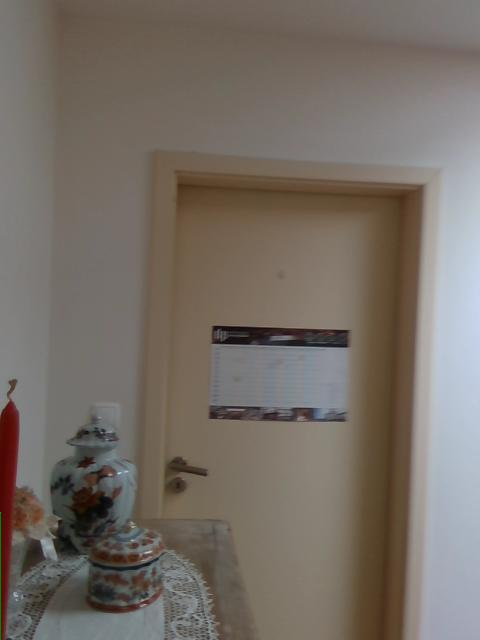door: (141, 146, 443, 639)
